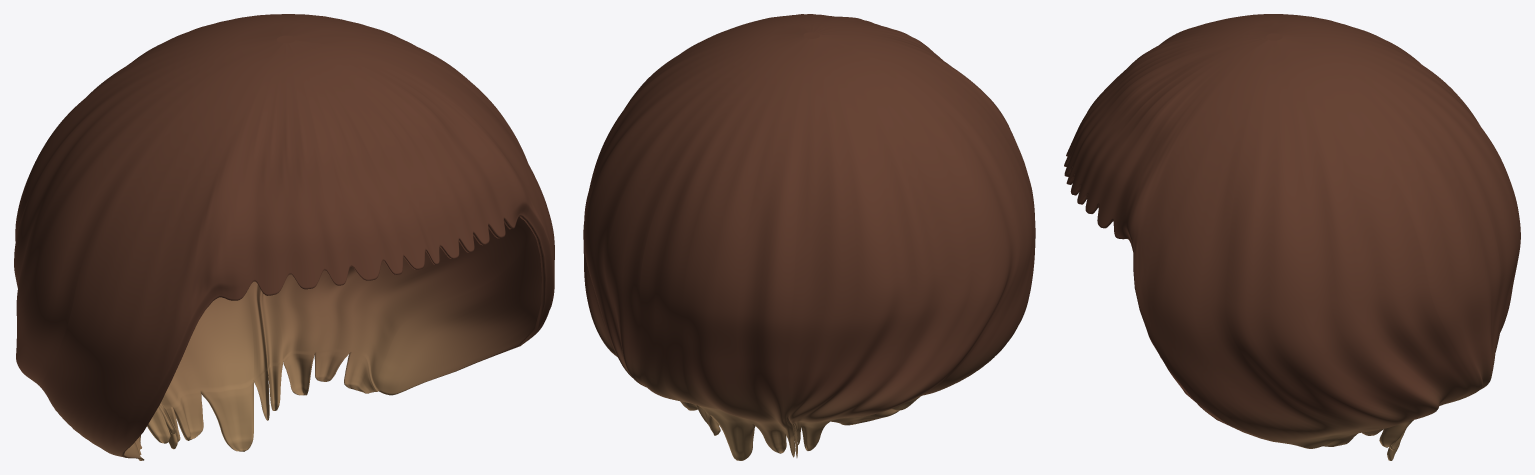
The model's file is long-pashmina-ombre.glb.
3 views of the same model, side by side, from view 1: azimuth 30°, elevation 25°; view 2: azimuth 150°, elevation 25°; view 3: azimuth 270°, elevation 25° (orthographic). The views are drawn at different scales.
Visible parts, largest first — view 1: Hair / rounded long fringe; view 2: Hair / rounded long fringe; view 3: Hair / rounded long fringe.
Part boxes in pixels (left/top/right/bottom): Hair / rounded long fringe: left=14, top=14, right=554, bottom=460; Hair / rounded long fringe: left=583, top=14, right=1035, bottom=460; Hair / rounded long fringe: left=1064, top=14, right=1520, bottom=460.
Bounding box in the file's own units: 0.8406 × 0.778 × 0.7781.
